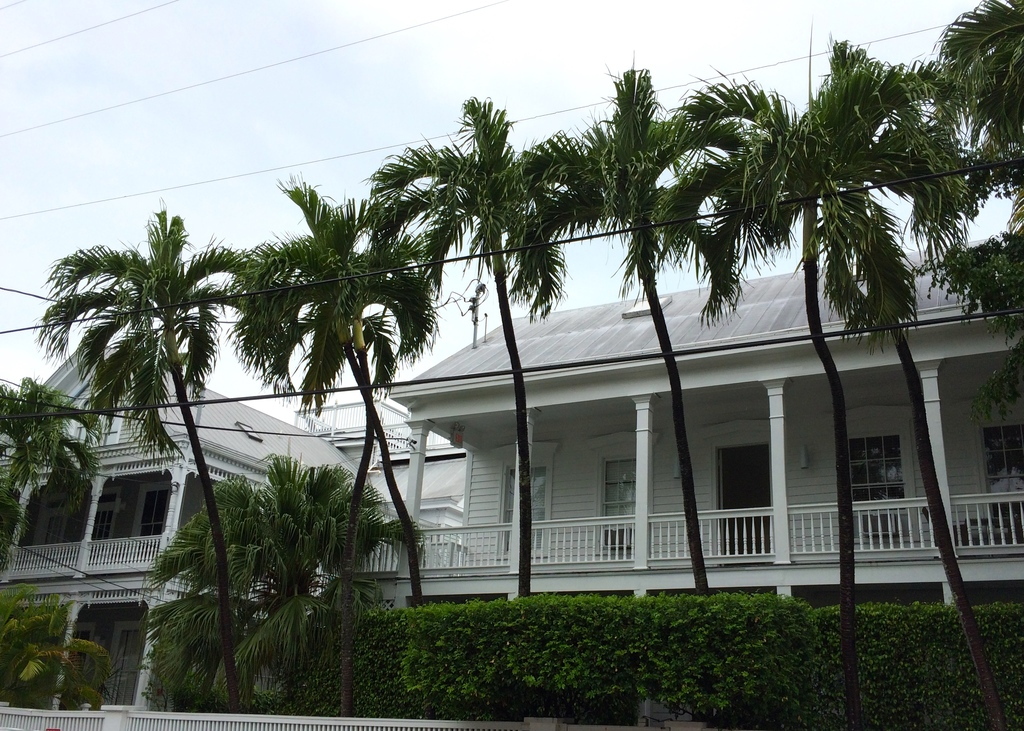Window: (825, 405, 915, 545), (588, 427, 660, 551), (493, 444, 557, 561), (971, 394, 1023, 527), (88, 489, 124, 552), (131, 481, 170, 538), (42, 492, 76, 543), (68, 621, 93, 670)
